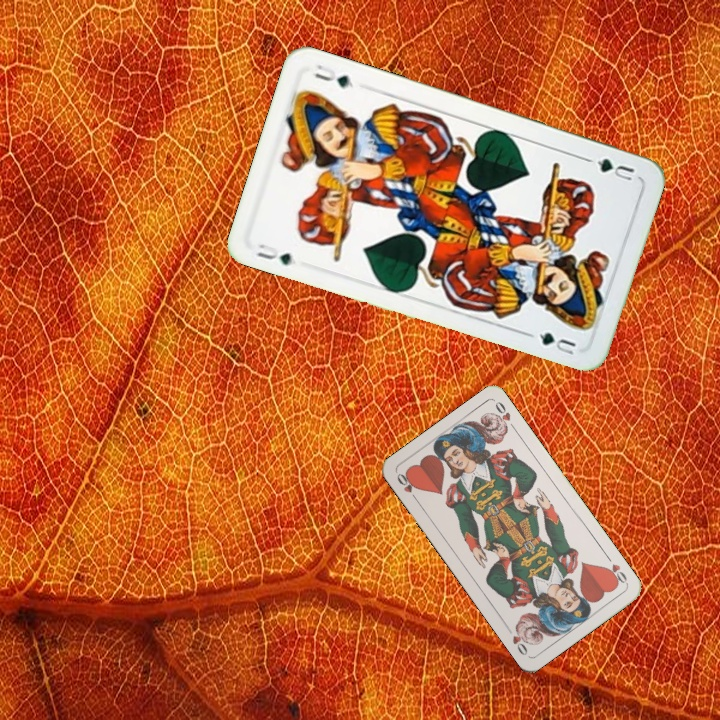GU: (593, 154, 637, 185), (253, 239, 295, 268)
HO: (602, 551, 630, 587), (393, 469, 421, 505)
